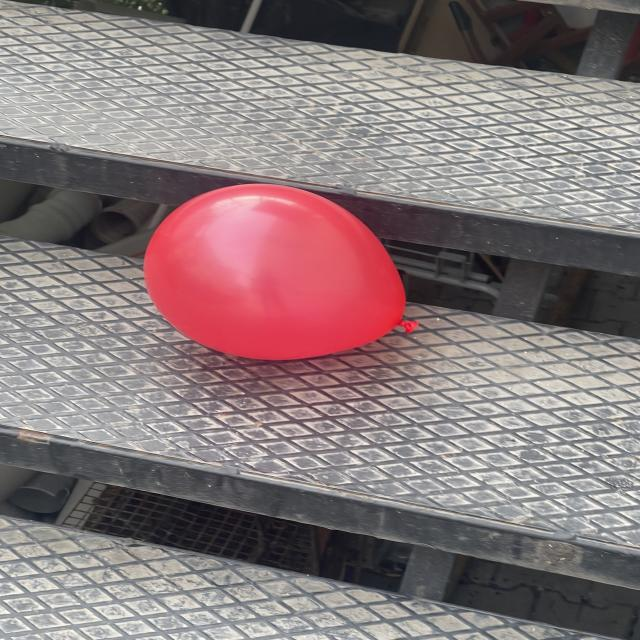balloon: (144, 184, 405, 360)
